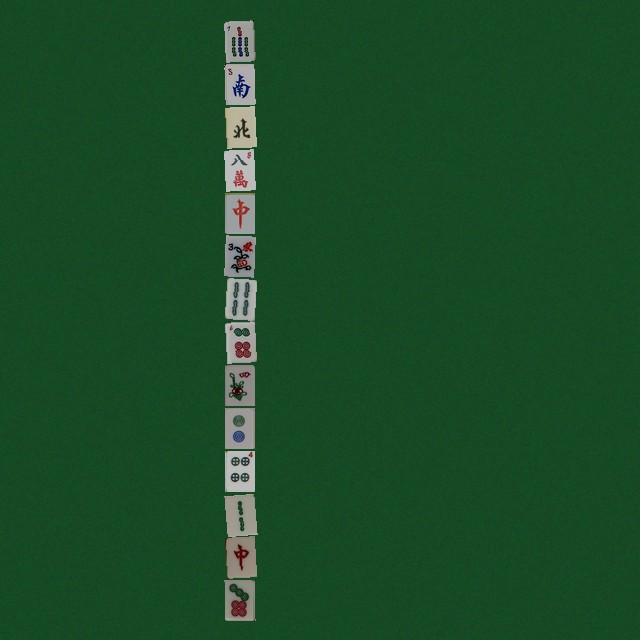tile: (224, 20, 254, 61), (224, 63, 254, 104), (224, 106, 254, 147), (224, 149, 254, 190), (224, 192, 254, 233), (224, 235, 254, 276), (224, 278, 254, 319), (224, 321, 254, 362), (224, 364, 254, 405), (224, 407, 254, 448), (224, 450, 254, 491), (224, 493, 254, 534), (224, 536, 254, 577), (224, 579, 254, 620)
